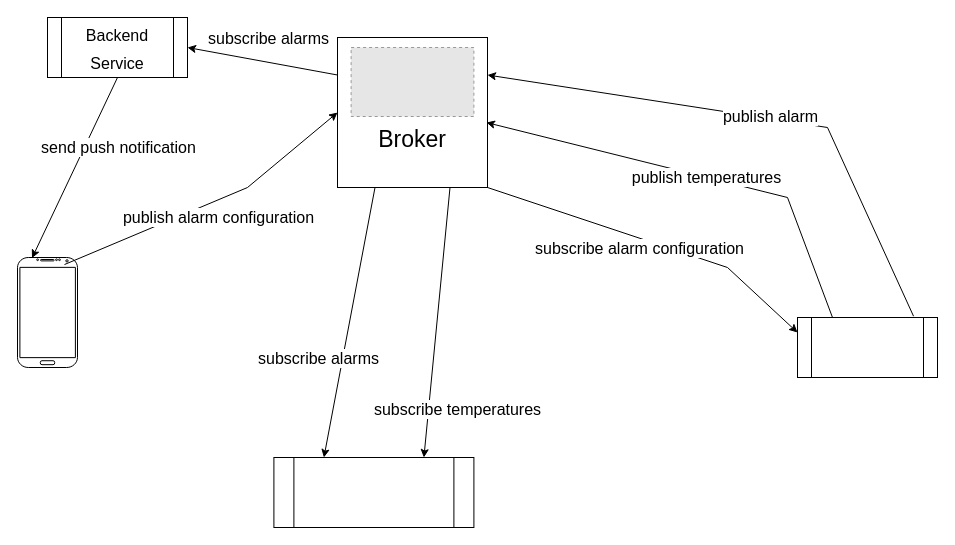
Some shapes in this 955 by 545 pixel diagram are drawn without their labels. Grey dashed boxes stand in for pictures. Here are the shapes that lost their labels. From the top down, the centre of each, then its label:
At [867,347]: "Temperature Station".
At [373,492]: "Fancy machine learning application".
